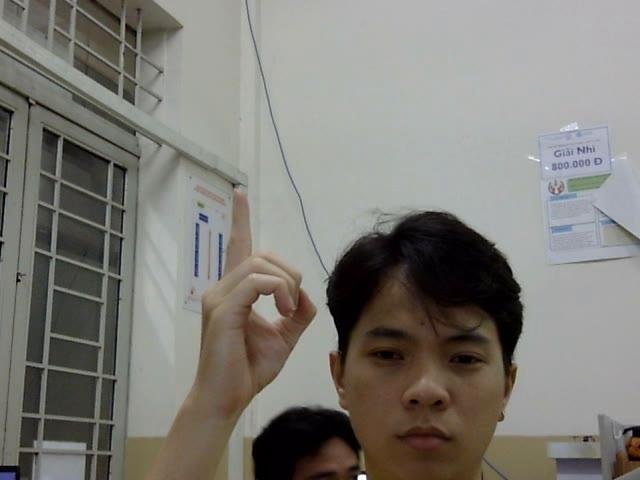D: (199, 188, 317, 409)
